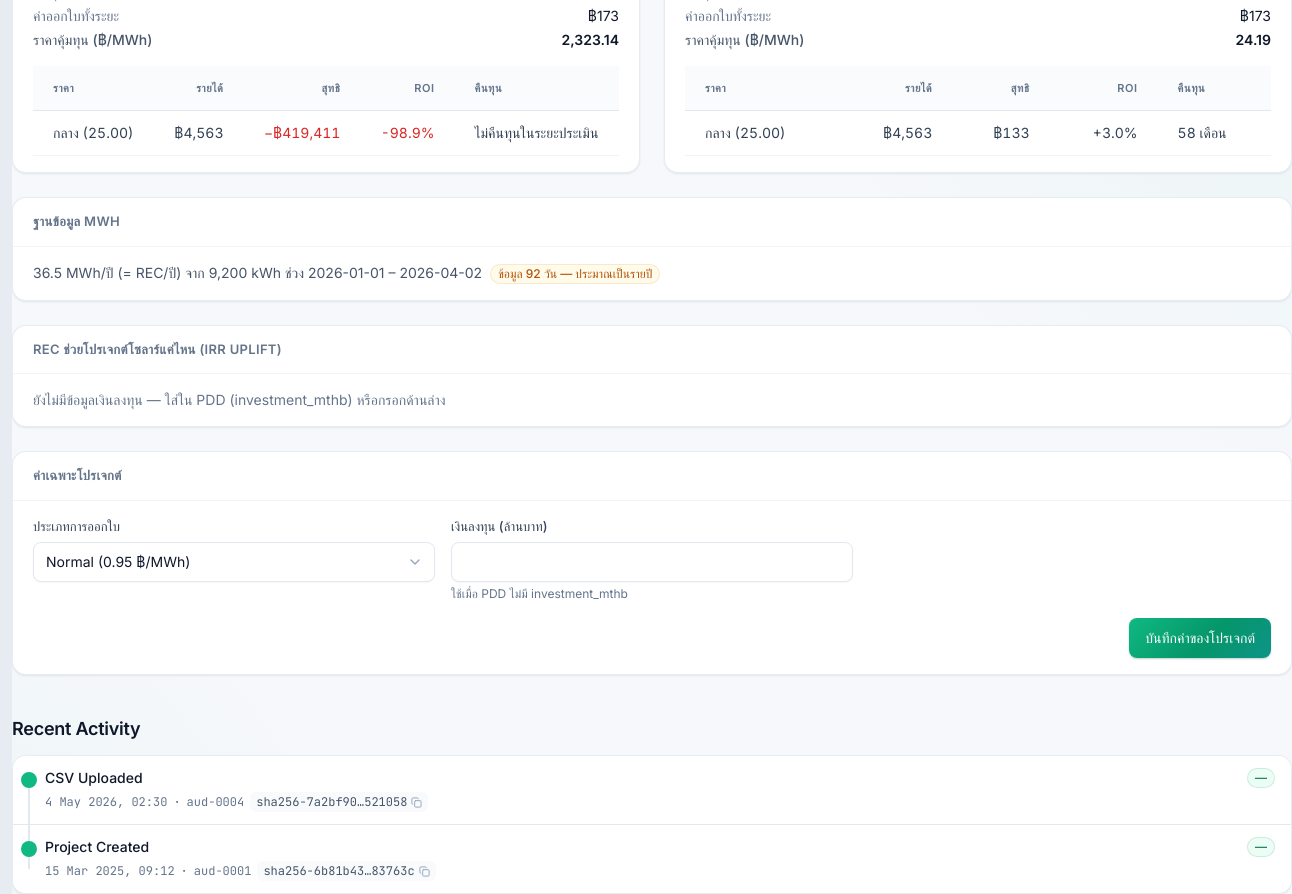
Test case: ProjectDetail — REC ROI tab › disables the save button while a save is in flight
The width and height of the screenshot is (1292, 894).
(page scrolled)
Click the button "บันทึกค่าของโปรเจกต์".
click(1200, 638)  # box 1129,618 -> 1271,658
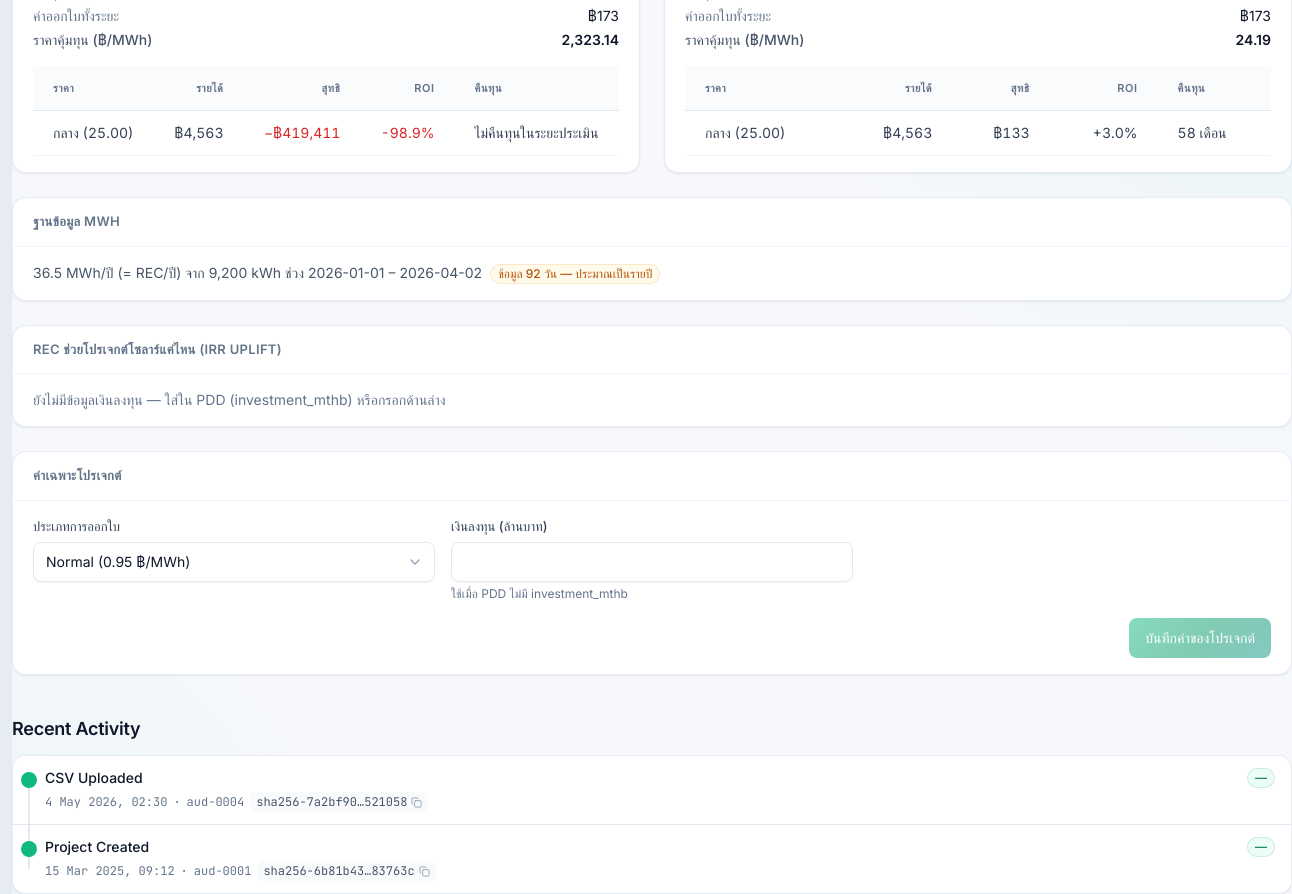
expect the button "บันทึกค่าของโปรเจกต์" is disabled: met
Click the button "บันทึกค่าของโปรเจกต์".
click(1200, 638)  # box 1129,618 -> 1271,658
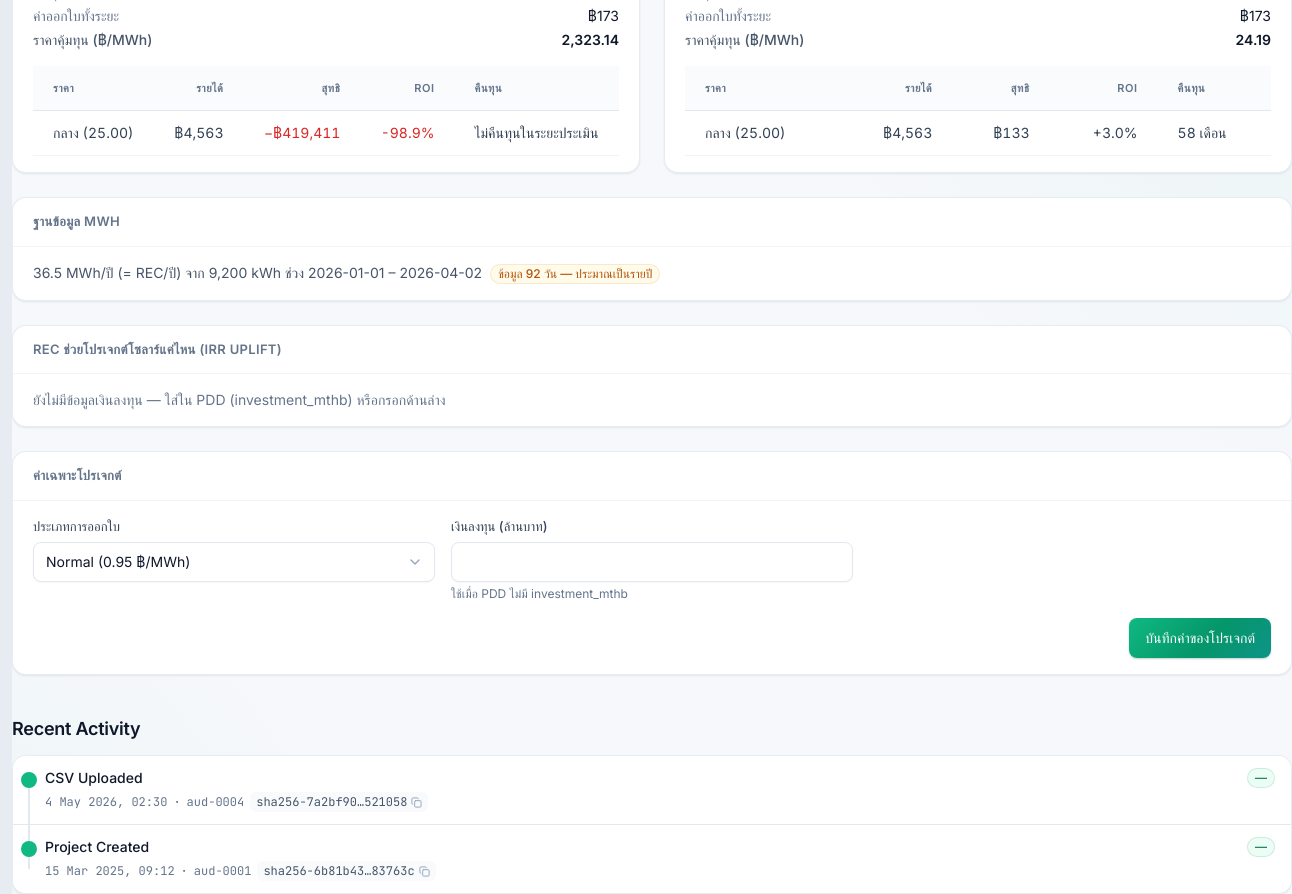
expect the button "บันทึกค่าของโปรเจกต์" is enabled: met, box 1129,618 -> 1271,658
